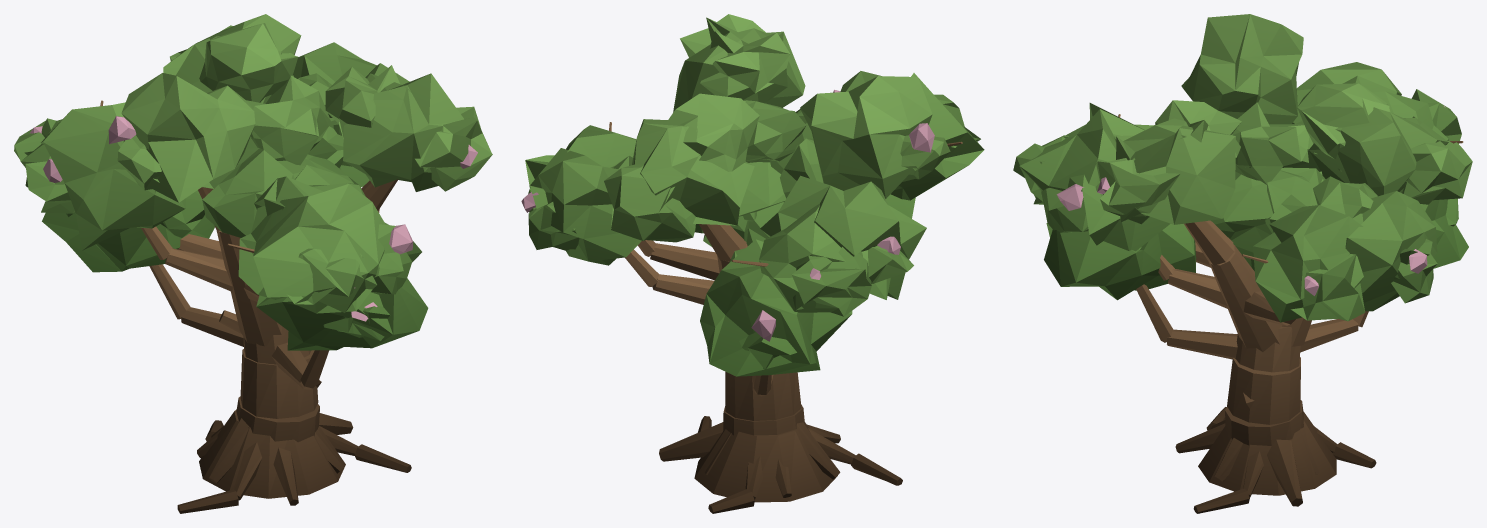
Rendered from park_tree_01.glb.
The picture shows the model from 3 angles, left to right: view 1: azimuth 30°, elevation 25°; view 2: azimuth 150°, elevation 25°; view 3: azimuth 270°, elevation 25°; orthographic projection. The views are drawn at different scales.
Parts seen in each view (by area): view 1: park_tree_01; view 2: park_tree_01; view 3: park_tree_01.
Boxes of the visible parts, box(x1,y1,x2,y2) form: park_tree_01: box(14, 14, 492, 513); park_tree_01: box(521, 14, 984, 513); park_tree_01: box(1013, 14, 1472, 513).
Size of the model in its own units: 4.13 by 4.16 by 4.29.
